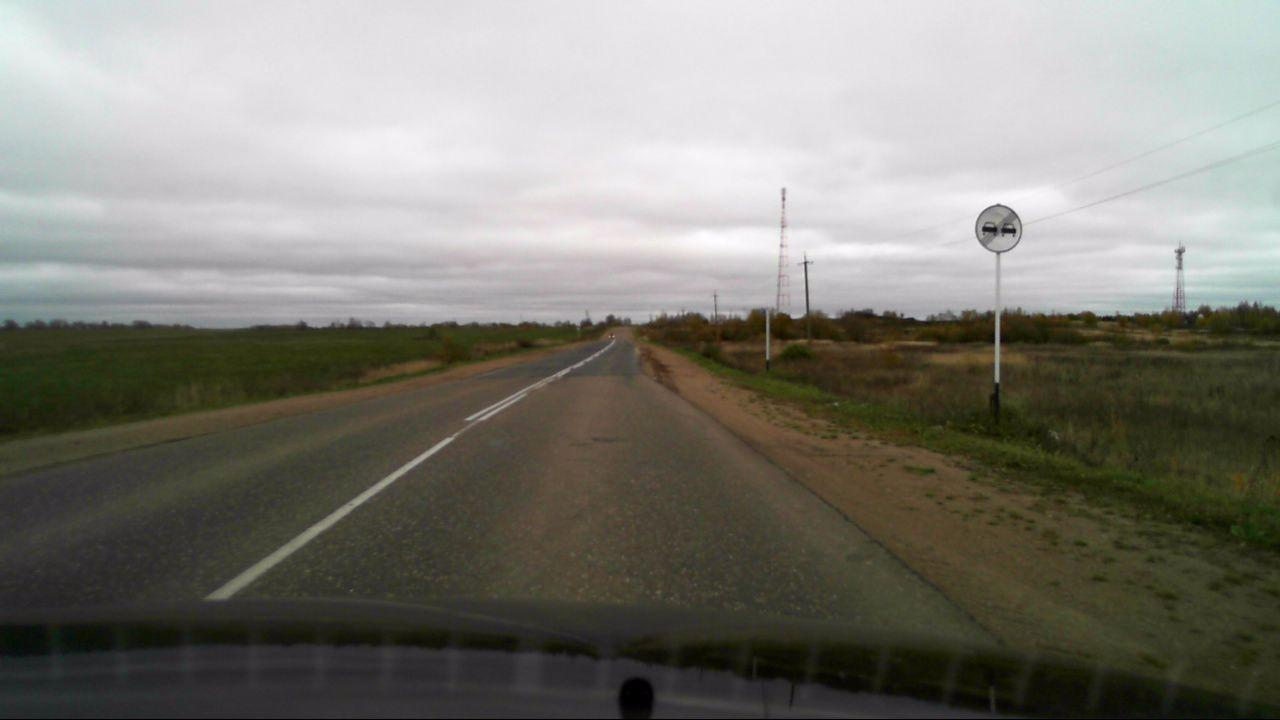3_21: (974, 203, 1025, 254)
